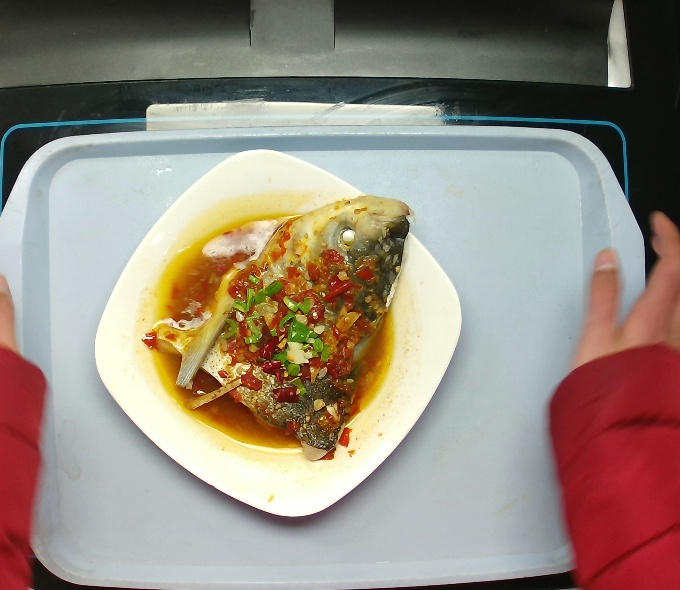wcq-DuoJiaoYuTou: (139, 180, 430, 467)
